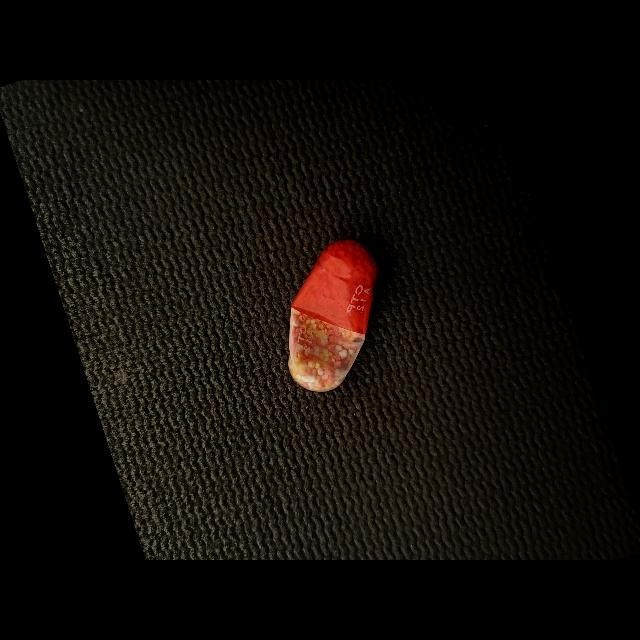Defective Capsule: (288, 240, 379, 392)
